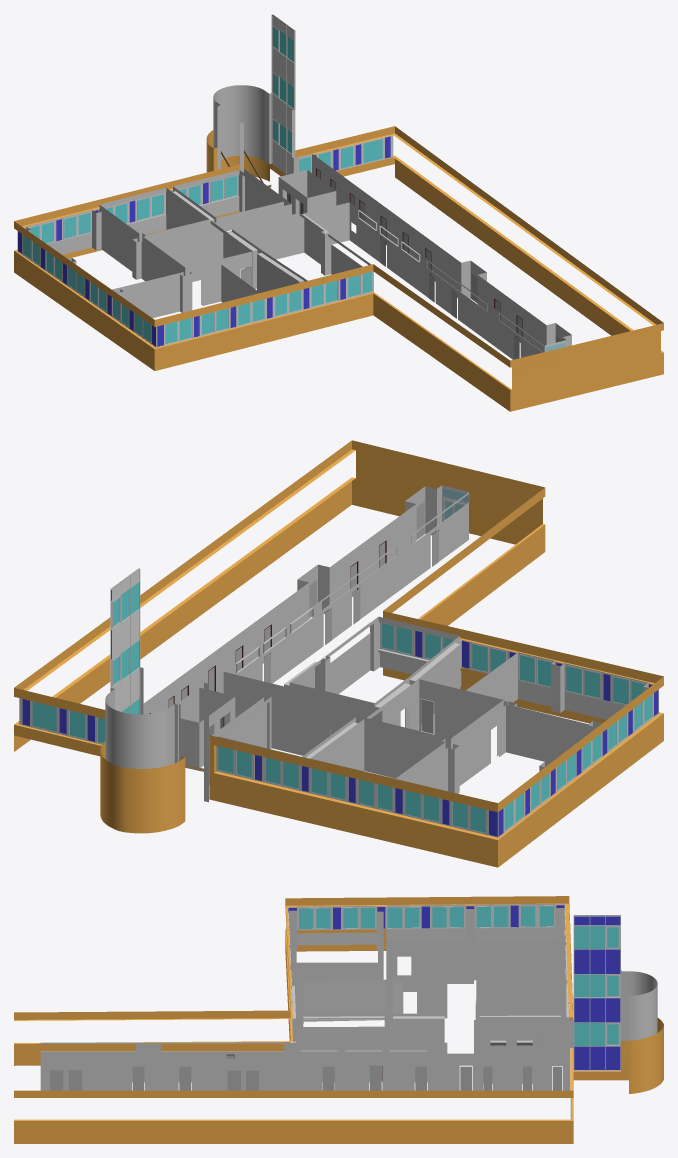
The picture shows the model from 3 angles, top to bottom: view 1: azimuth 30°, elevation 25°; view 2: azimuth 150°, elevation 25°; view 3: azimuth 270°, elevation 25°; orthographic projection. The views are drawn at different scales.
Visible parts, largest first — view 1: stena044.112, stena044.111, stena044.110, stena044, stena044.043, stena044.120, stena044.119, stena044.291, stena044.019, stena044.002, stena044.031, stena044.116 (+4 smaller); view 2: stena044.112, stena044.111, stena044.110, stena044.019, stena044, stena044.119, stena044.043, stena044.116, stena044.117, stena044.291, stena044.031, stena044.120 (+5 smaller); view 3: stena044.112, stena044.110, stena044, stena044.111, stena044.002, stena044.031, stena044.116, stena044.120, stena044.117, stena044.119, stena044.291, stena044.241 (+1 smaller).
Part boxes in pixels (box(x1,y1,x2,y2)): stena044.112: box(14, 126, 663, 411); stena044.111: box(143, 169, 544, 359); stena044.110: box(292, 154, 571, 352); stena044: box(228, 213, 371, 292); stena044.043: box(156, 271, 373, 347); stena044.120: box(117, 264, 259, 318); stena044.119: box(26, 210, 183, 292); stena044.291: box(213, 85, 265, 169); stena044.019: box(24, 175, 238, 244); stena044.002: box(271, 14, 295, 174); stena044.031: box(17, 231, 156, 347); stena044.116: box(172, 170, 283, 222); stena044.112: box(14, 440, 663, 867); stena044.111: box(209, 492, 503, 784); stena044.110: box(143, 485, 441, 714); stena044.019: box(216, 746, 498, 837); stena044: box(284, 616, 461, 728); stena044.119: box(403, 705, 596, 793); stena044.043: box(380, 622, 652, 705); stena044.116: box(218, 696, 357, 758); stena044.117: box(310, 719, 445, 780); stena044.291: box(105, 693, 180, 768); stena044.031: box(498, 689, 658, 837); stena044.120: box(466, 652, 648, 727); stena044.112: box(14, 896, 663, 1143); stena044.110: box(40, 1044, 573, 1090); stena044: box(292, 979, 444, 1050); stena044.111: box(40, 941, 573, 1082); stena044.002: box(573, 915, 620, 1070); stena044.031: box(287, 904, 564, 930); stena044.116: box(475, 978, 568, 1019); stena044.120: box(288, 906, 383, 985); stena044.117: box(476, 941, 567, 983); stena044.119: box(386, 904, 565, 980); stena044.291: box(621, 970, 657, 1040); stena044.241: box(481, 1031, 541, 1083).
Bounding box in the file's own units: 3100 × 1339 × 4378.
